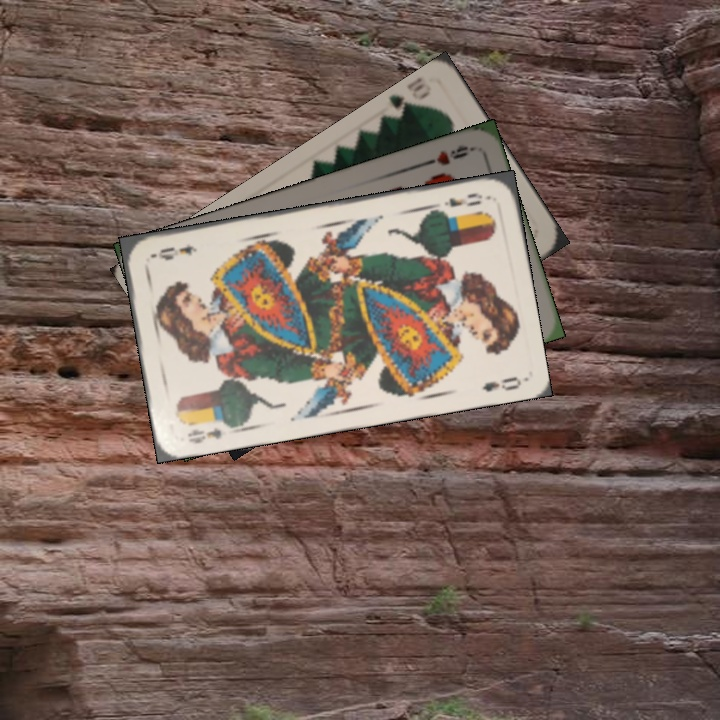EO: (440, 189, 485, 210), (183, 424, 224, 447)
G10: (384, 79, 435, 122)
H9: (418, 141, 476, 169)
